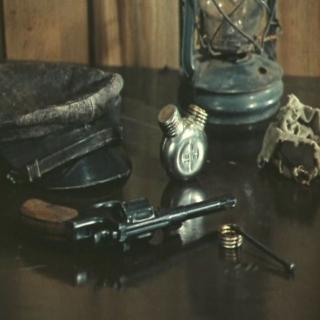gun: (20, 180, 238, 255)
